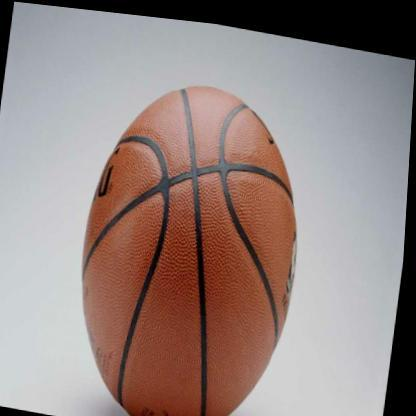basketball: (67, 62, 318, 416)
